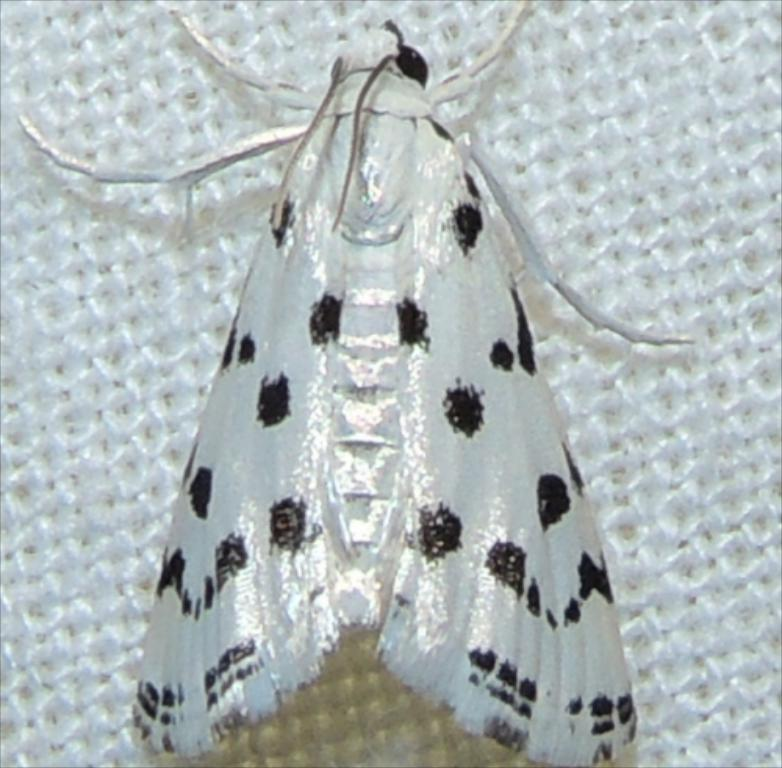Butterfly: (163, 49, 681, 768)
